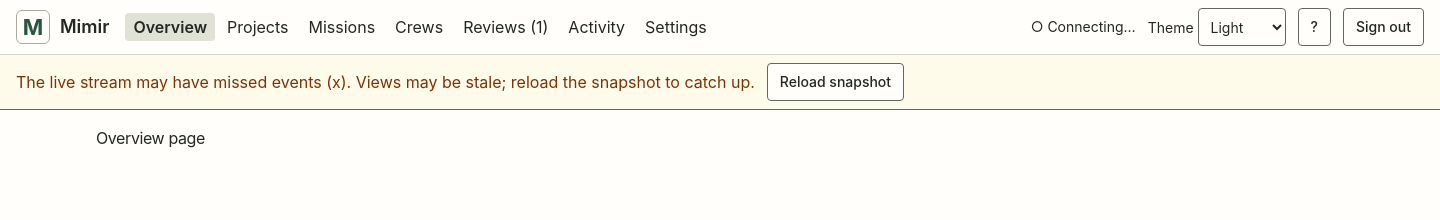
Scenario: Layout (a11y/UX audit M-I1, M-I2, M-I8, M-m2, M-m12, M-m13) › keeps screens and the attention live region when a refresh fails, with an alert and Retry
Click the button "Reload snapshot" at coordinates (835, 82), box 767,63 -> 904,101
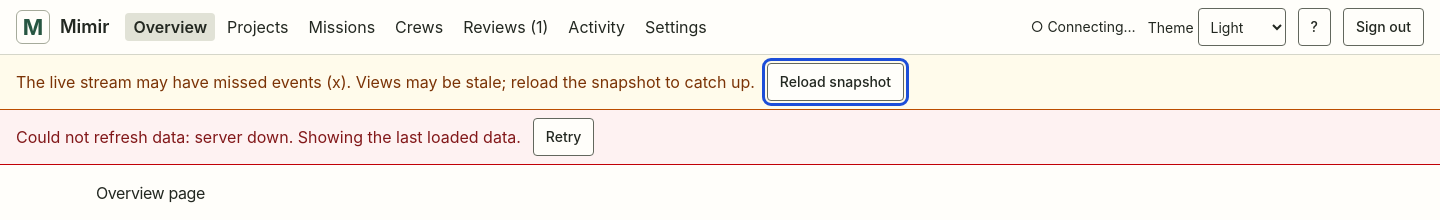
Expected: the heading "Overview page" is shown, 96,183 -> 205,203
Result: the text "Could not refresh data: server down. Showing the last loaded data. Retry" is shown at 0,110 -> 1439,165
Click the button "Retry" at coordinates (564, 137), box 533,118 -> 594,156
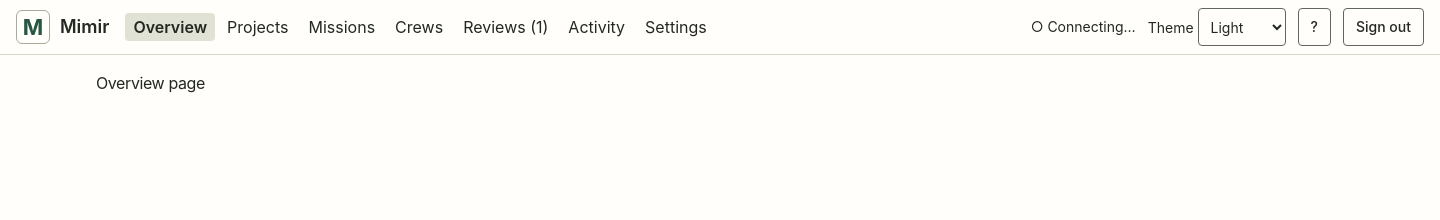
Result: the text "Could not refresh" is gone
